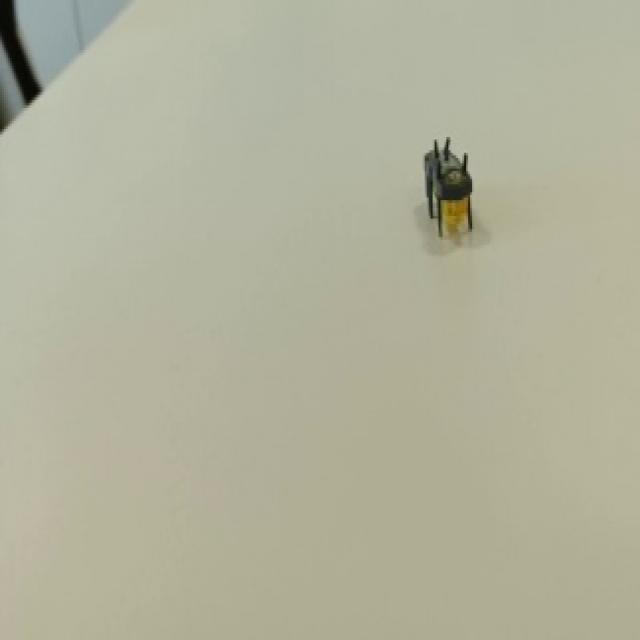6_NanoBug_GrisOscuro: (385, 111, 501, 245)
